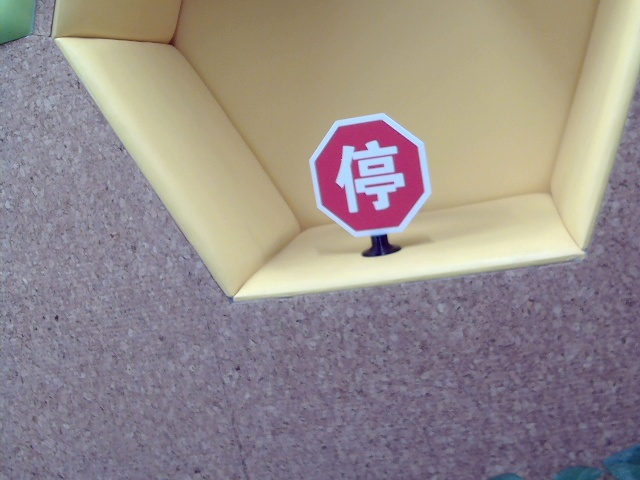stop: (328, 140, 407, 210)
